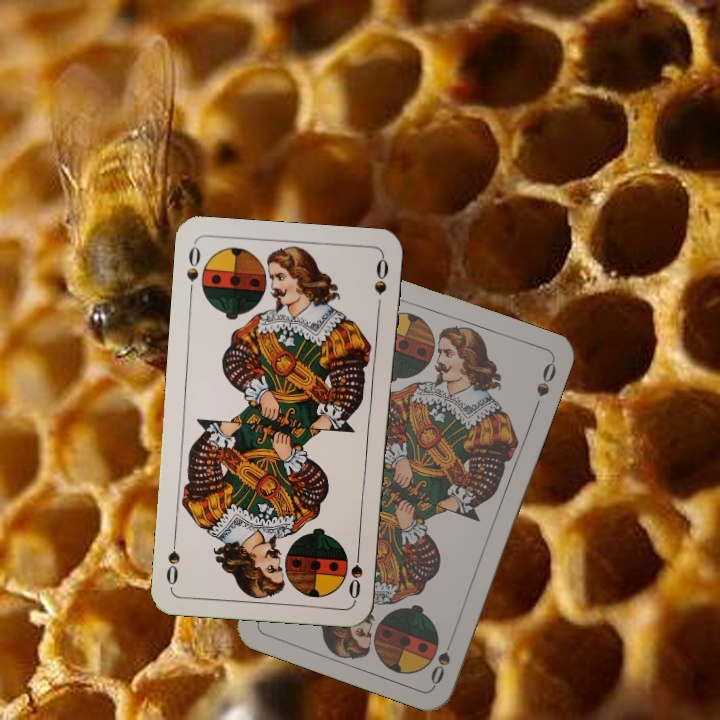SO: (426, 630, 458, 687), (345, 542, 365, 602), (182, 242, 203, 299)
